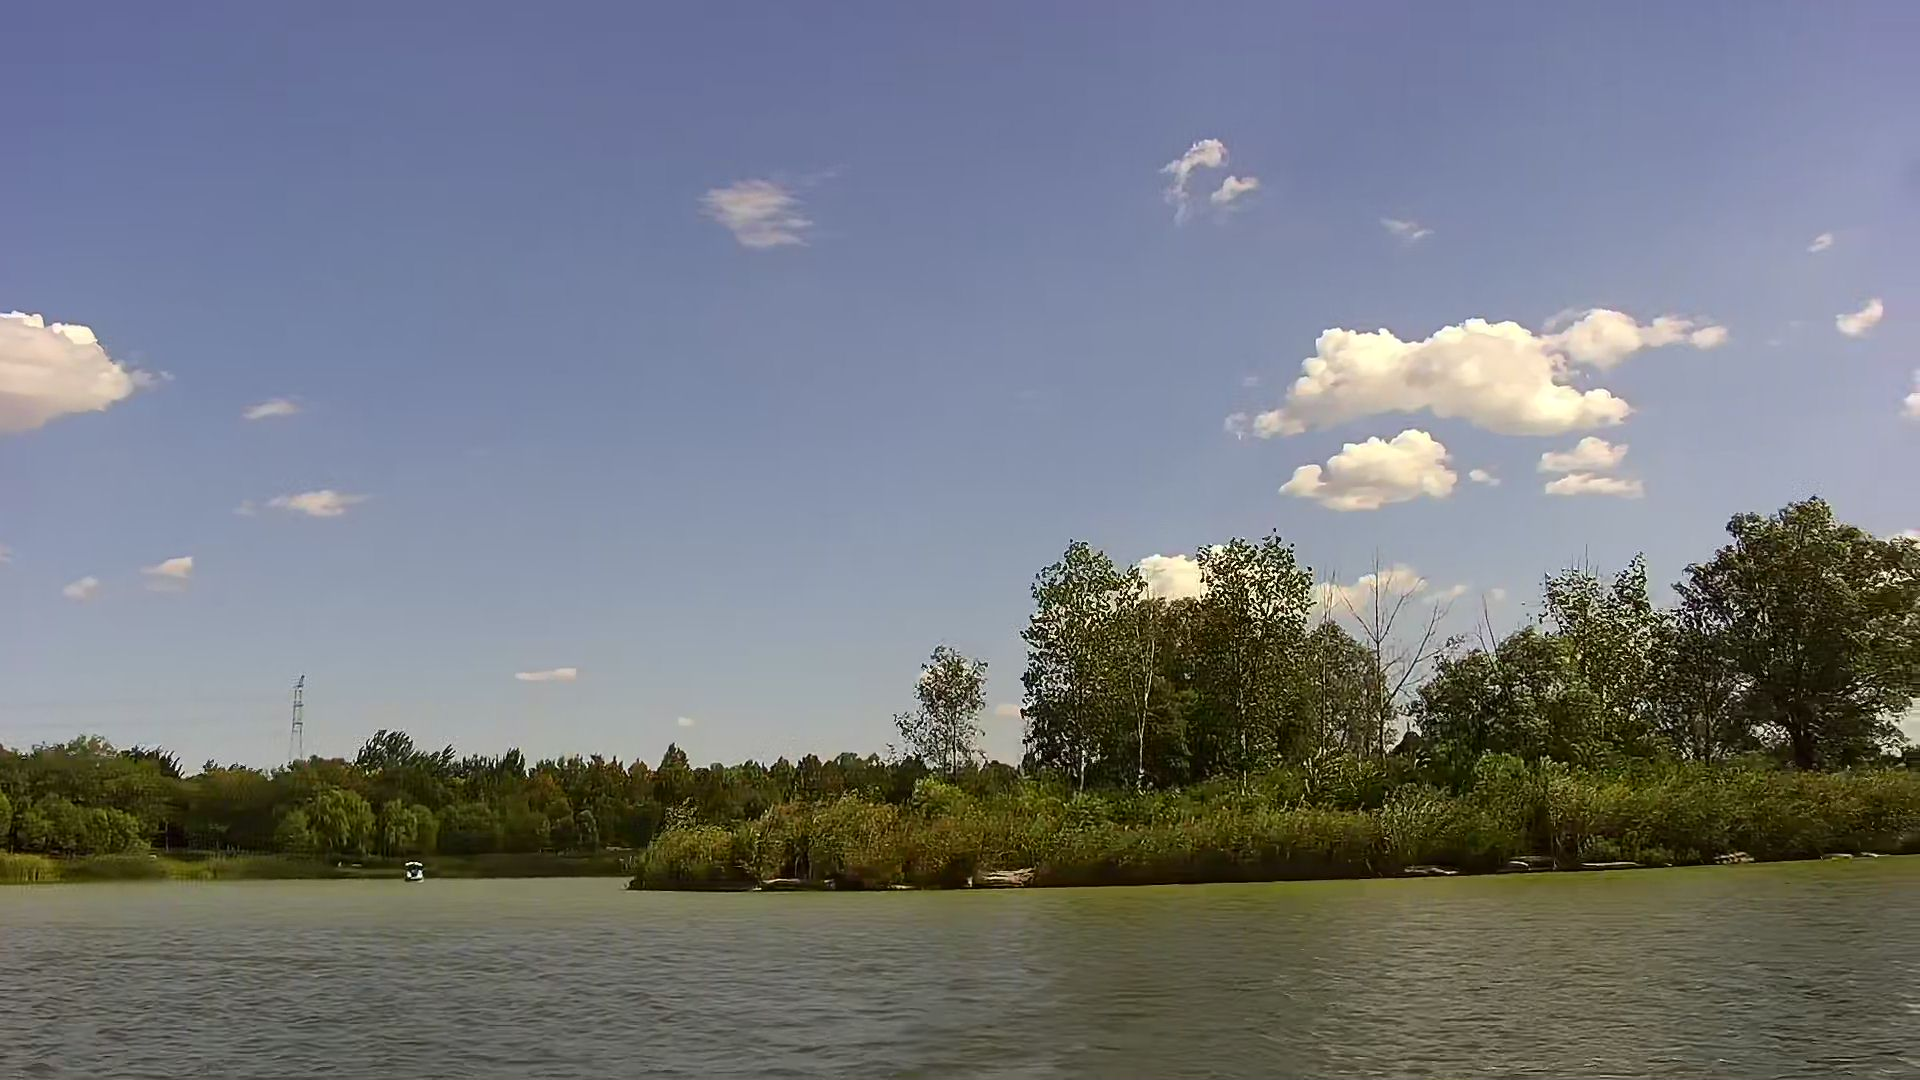rock: (965, 862, 1038, 887), (758, 876, 812, 891)
